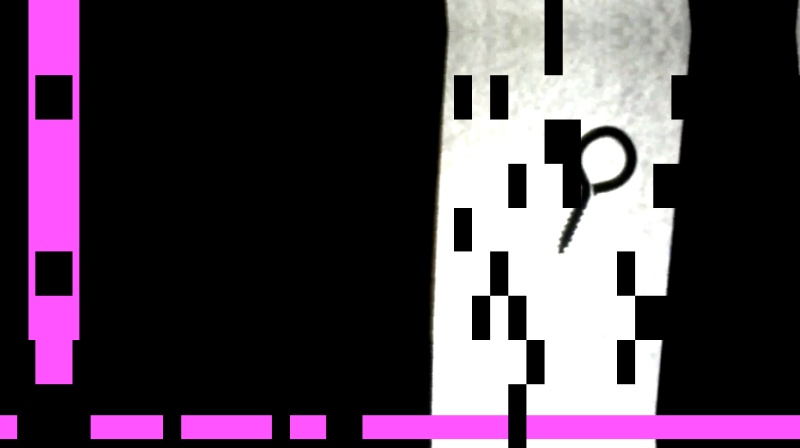O001: (553, 121, 640, 256)
